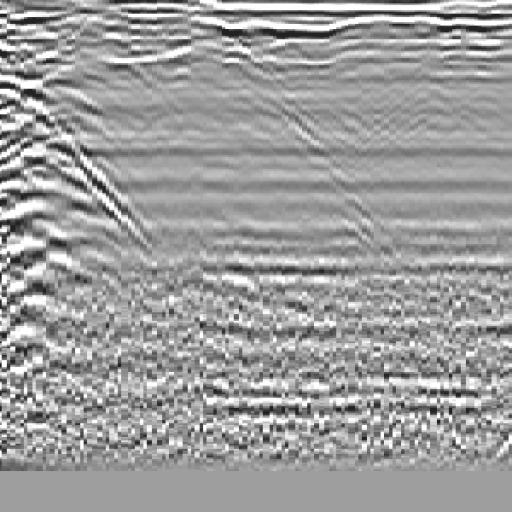metalic: (1, 53, 167, 333)
